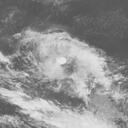cyclone: (34, 31, 96, 97)
